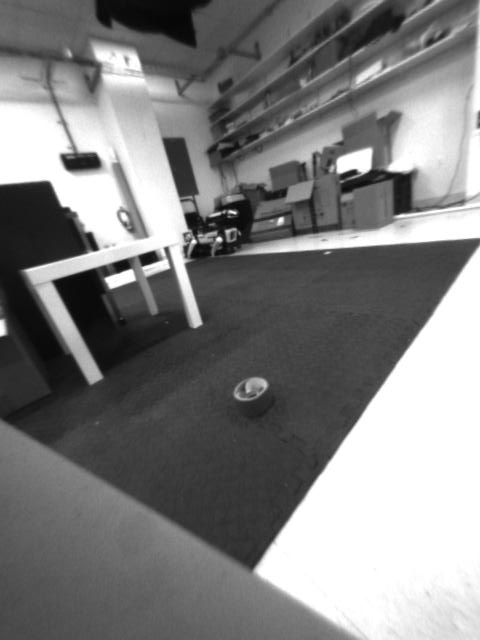dogtoy: (224, 370, 281, 422)
